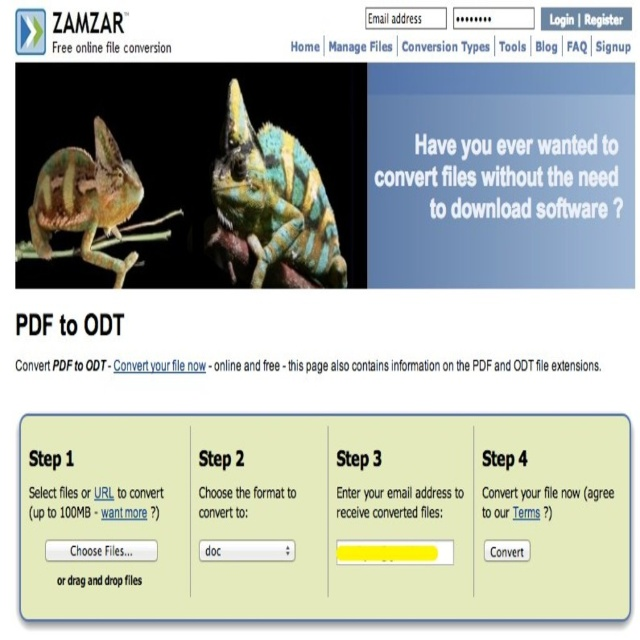Lizard: (30, 116, 142, 286)
